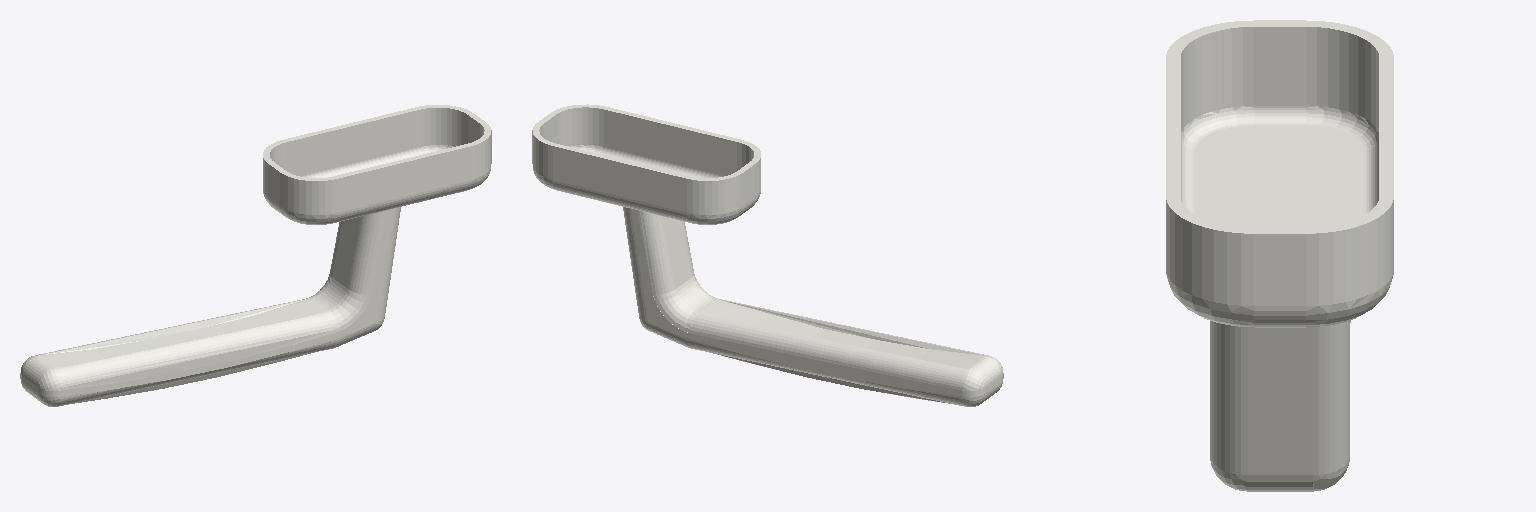
robot.urdf — window:
<?xml version="1.0" ?>
<robot name="window">
	<link name="base"/>
	<link name="link_0">
		<visual name="out-frame">
			<origin xyz="0 0 0"/>
			<geometry>
				<mesh filename="texture_dae/untitled.dae" scale="0.5 0.5 0.5"/>
			</geometry>
		</visual>
		<collision>
			<origin xyz="0 0 0"/>
			<geometry>
				<mesh filename="texture_dae/untitled.dae" scale="0.5 0.5 0.5"/>
			</geometry>
		</collision>
	</link>
	<joint name="joint_0" type="fixed">
		<origin rpy="1.570796326794897 0 -1.570796326794897" xyz="0 0 0"/>
		<child link="link_0"/>
		<parent link="base"/>
	</joint>
	<link name="link_1">
		<visual name="surf-board">
			<origin xyz="0.30546158315543975 -0.5833843402065071 0"/>
			<geometry>
				<mesh filename="texture_dae/untitled1.dae" scale="0.5 0.5 0.5"/>
			</geometry>
		</visual>
		<collision>
			<origin xyz="0.30546158315543975 -0.5833843402065071 0"/>
			<geometry>
				<mesh filename="texture_dae/untitled1.dae" scale="0.5 0.5 0.5"/>
			</geometry>
		</collision>
	</link>
	<joint name="joint_1" type="revolute">
		<origin xyz="-0.30546158315543975 0.5833843402065071 0"/>
		<axis xyz="0 -1 0"/>
		<child link="link_1"/>
		<parent link="link_0"/>
		<limit lower="0" upper="1.5079644737231006"/>
	</joint>
	<link name="link_2">
		<visual name="handle">
			<origin xyz="0 0 0"/>
			<geometry>
				<mesh filename="texture_dae/9969529-handle.dae" scale="1.2500735063610489 1.2500735063610489 1.2500735063610489"/>
			</geometry>
		</visual>
		<collision>
			<origin xyz="0 0 0"/>
			<geometry>
				<mesh filename="texture_dae/9969529-handle.dae" scale="1.2500735063610489 1.2500735063610489 1.2500735063610489"/>
			</geometry>
		</collision>
	</link>
	<joint name="joint_2" type="revolute">
		<origin xyz="0 0 0"/>
		<child link="link_2"/>
		<parent link="link_3"/>
		<axis xyz="0 0 1"/>
		<limit lower="0" upper="1.5079644737231006"/>
	</joint>
	<link name="link_3">
		<visual name="lock">
			<origin xyz="0 0 0"/>
			<geometry>
				<mesh filename="texture_dae/9969529-lock.dae" scale="1.2500735063610489 1.2500735063610489 1.2500735063610489"/>
			</geometry>
		</visual>
		<collision>
			<origin xyz="0 0 0"/>
			<geometry>
				<mesh filename="texture_dae/9969529-lock.dae" scale="1.2500735063610489 1.2500735063610489 1.2500735063610489"/>
			</geometry>
		</collision>
	</link>
	<joint name="joint_3" type="fixed">
		<origin xyz="0.57960002006893 -0.5833843402065071 0.028971898873196622"/>
		<child link="link_3"/>
		<parent link="link_1"/>
	</joint>
</robot>

--- Facts derived from the render (not from the file) ---
Views: 3 orthographic renders of the robot side by side, from view 1: azimuth 30°, elevation 25°; view 2: azimuth 150°, elevation 25°; view 3: azimuth 270°, elevation 25°.
Robot: window — 5 links, 4 joints (2 revolute, 2 fixed); root link base; default pose: every joint at zero.
Visible links, largest first — view 1: link_2, link_3; view 2: link_2, link_3; view 3: link_3, link_2.
Boxes of the visible links, bbox=[...] form: link_2: bbox=[20, 207, 400, 406]; link_3: bbox=[263, 105, 491, 224]; link_2: bbox=[623, 207, 1003, 406]; link_3: bbox=[532, 104, 760, 224]; link_3: bbox=[1166, 20, 1393, 327]; link_2: bbox=[1210, 320, 1350, 491].
Size in the robot's own frame: 0.1865 by 0.0386 by 0.0745 metres.
2 mesh visuals loaded from 4 distinct referenced files (2 Collada DAE); not drawn: 2 (reference not matched to a file when rendering).
